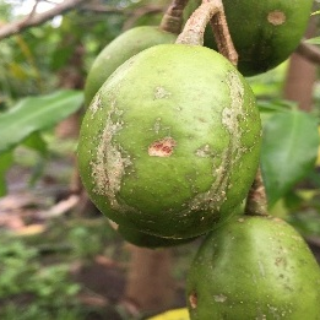coc: (77, 42, 263, 238)
